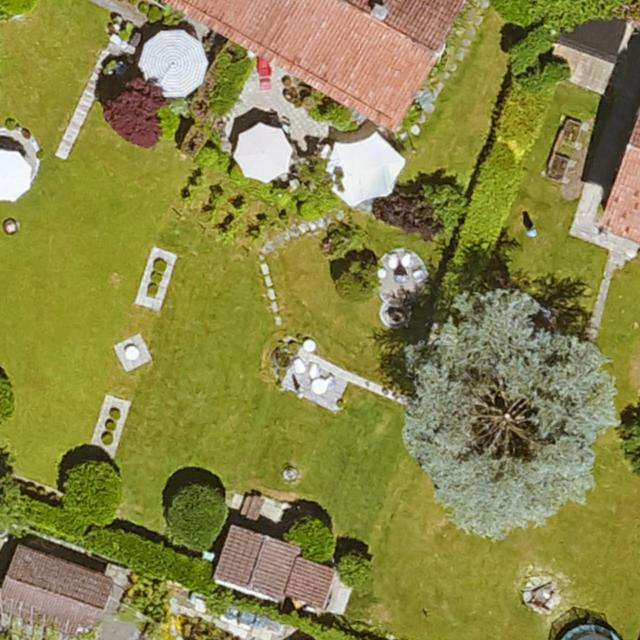tree: (402, 285, 620, 540), (107, 74, 164, 145), (424, 180, 474, 240), (379, 184, 437, 227), (336, 260, 382, 300)
